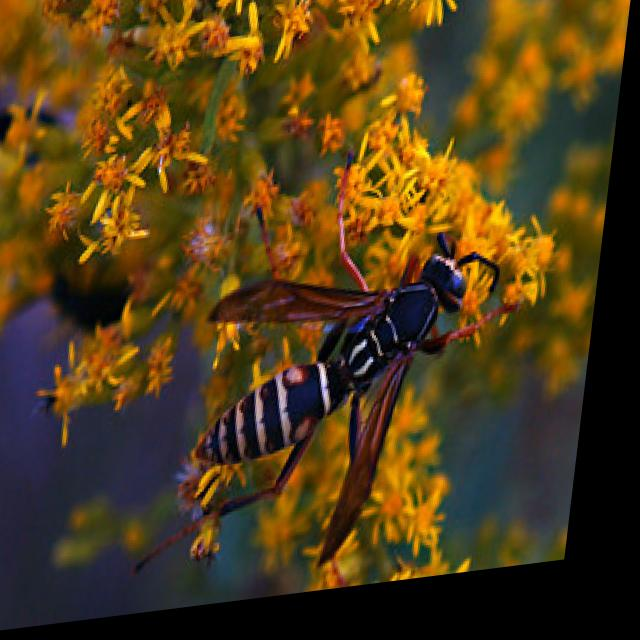Guepe: (170, 162, 542, 582)
